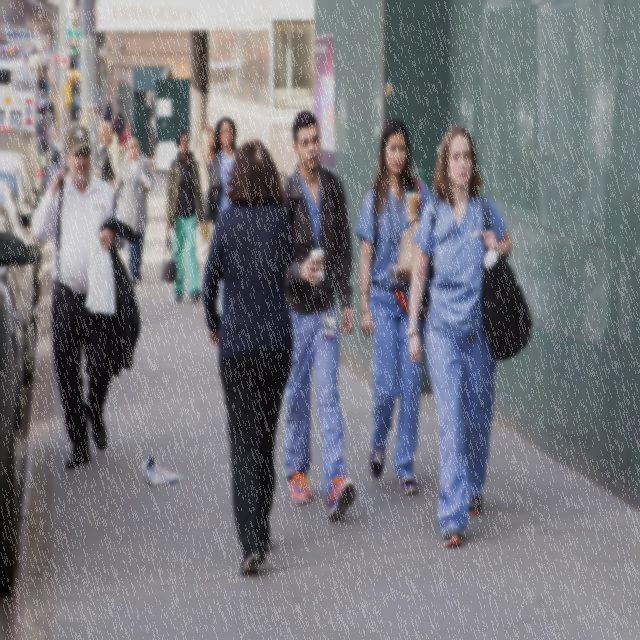pessoa: (406, 124, 514, 549), (200, 139, 298, 577), (28, 123, 141, 470), (271, 108, 356, 522), (358, 116, 436, 496), (198, 116, 238, 314), (164, 129, 206, 306), (113, 134, 156, 286), (193, 122, 216, 216), (98, 122, 116, 188), (108, 132, 124, 200), (96, 111, 113, 156), (112, 114, 126, 164), (50, 127, 62, 182), (111, 108, 125, 152), (36, 72, 52, 106), (102, 101, 115, 138), (71, 82, 83, 121), (120, 120, 134, 152)
